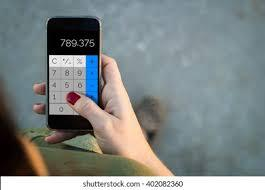Calculator: (45, 35, 104, 119)
